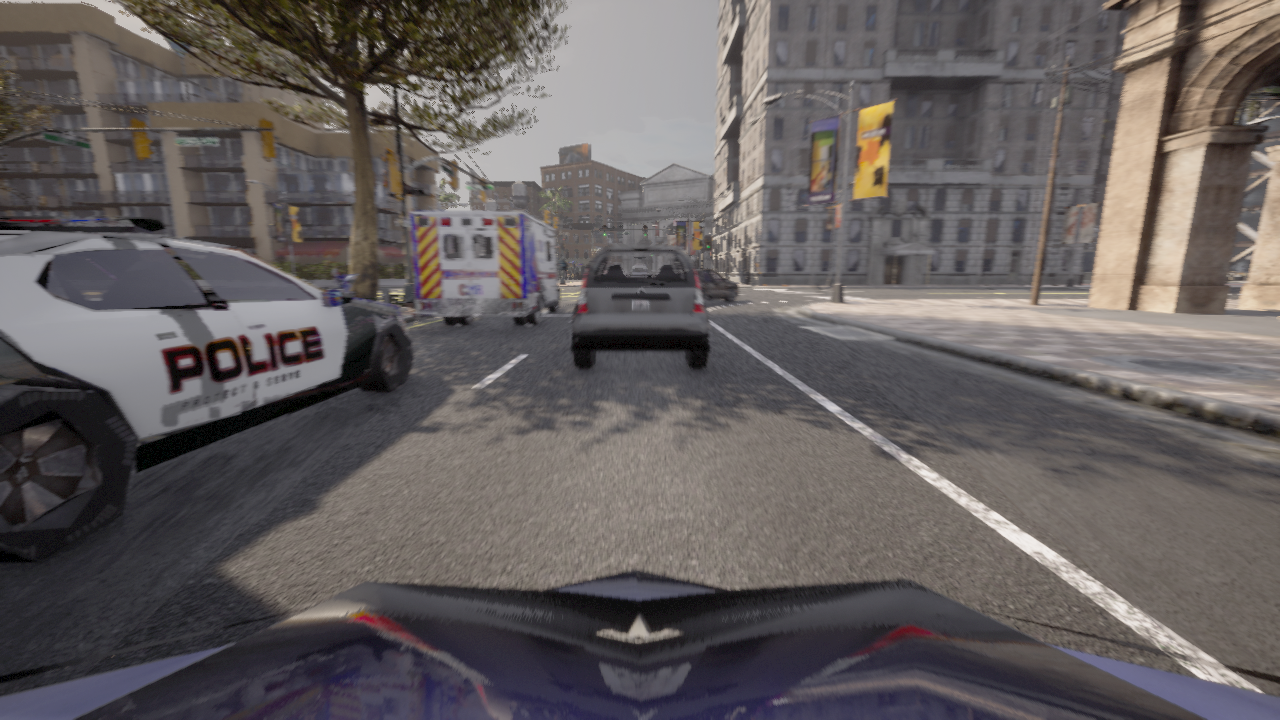cyclist: (0, 569, 1279, 719), (410, 211, 566, 325), (572, 244, 710, 368), (696, 269, 739, 302)
pedestrian: (332, 265, 342, 288)
